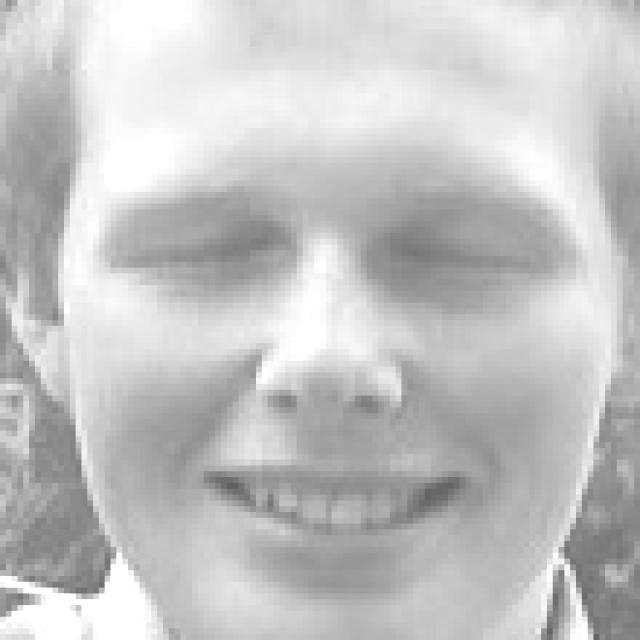real: (61, 2, 610, 620), (80, 172, 558, 330)
